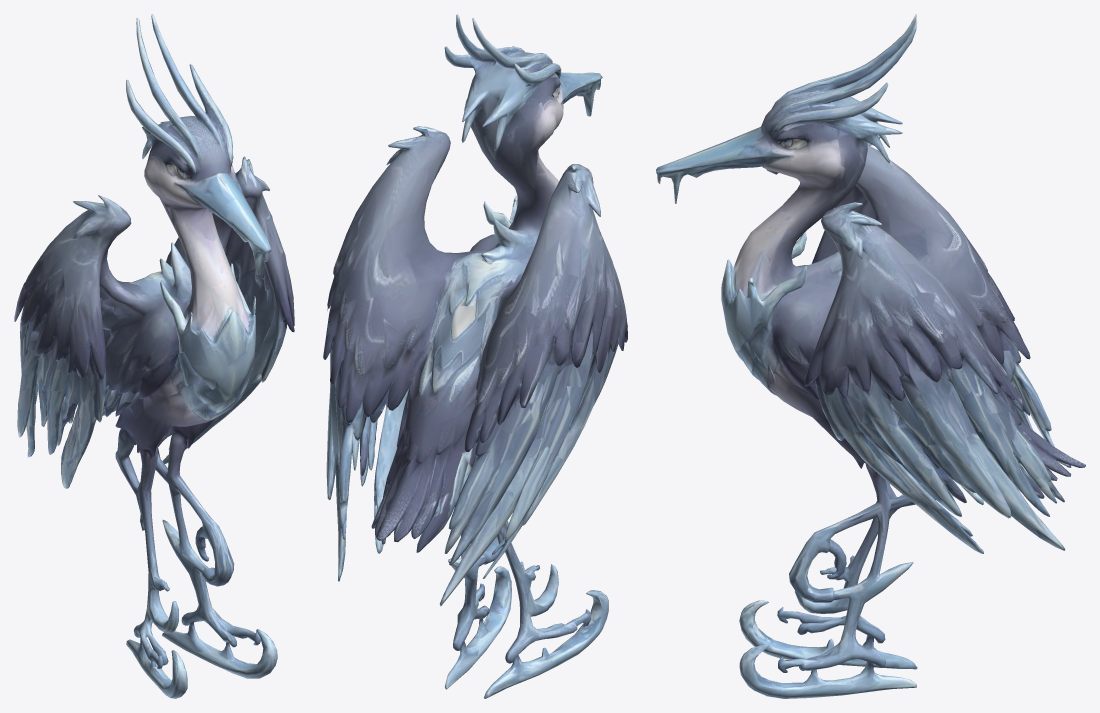
3 views of the same model, side by side, from view 1: azimuth 30°, elevation 25°; view 2: azimuth 150°, elevation 25°; view 3: azimuth 270°, elevation 25° (orthographic). The views are drawn at different scales.
Parts seen in each view (by area): view 1: Mesh_0; view 2: Mesh_0; view 3: Mesh_0.
Boxes of the visible parts, box(x1,y1,x2,y2) form: Mesh_0: box(14, 14, 294, 698); Mesh_0: box(323, 14, 627, 698); Mesh_0: box(656, 14, 1085, 698).
Bounding box in the file's own units: 0.7475 × 1.9 × 1.12.
Materials: 1 (1 with a texture image).
